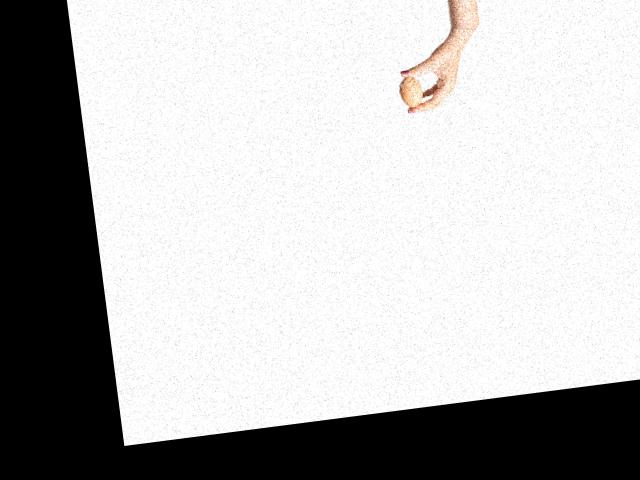egg: (399, 74, 424, 108)
